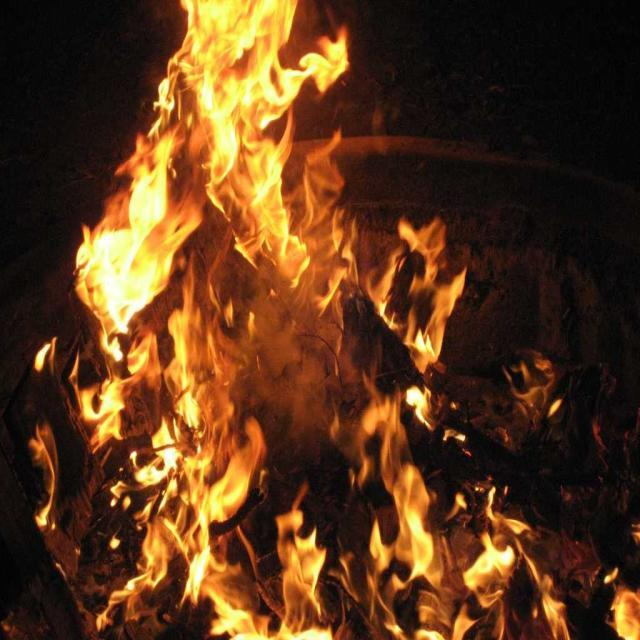Fire: (245, 172, 366, 260), (95, 186, 166, 312), (204, 3, 282, 102), (174, 442, 248, 520)
